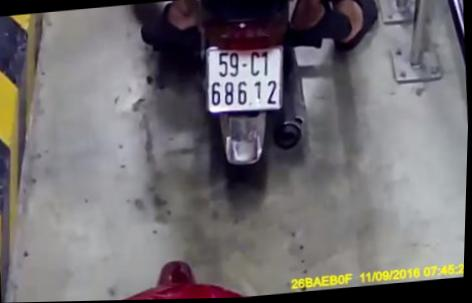LP: (203, 38, 287, 119)
